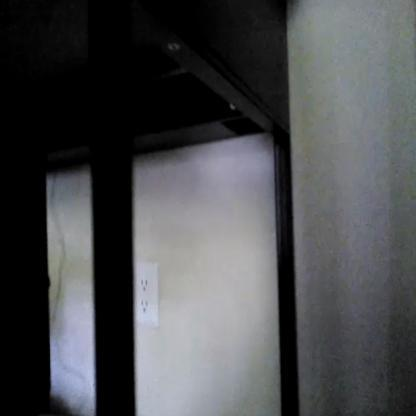OUTLET: (134, 262, 160, 328)
